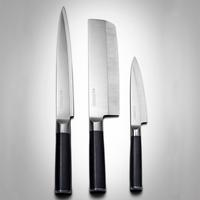knife: (82, 15, 124, 194), (45, 3, 78, 197), (122, 52, 158, 193)
